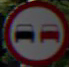No overtake: (6, 1, 64, 58)
